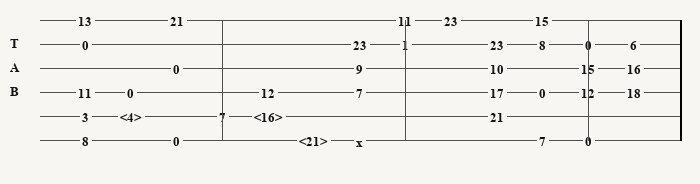0: (82, 38, 93, 51), (127, 86, 138, 99), (173, 62, 184, 75), (173, 134, 184, 147), (539, 86, 550, 99), (585, 38, 596, 51), (585, 134, 596, 147)
1: (402, 38, 413, 51)
10: (490, 62, 508, 75)
11: (78, 86, 96, 99), (398, 14, 416, 27)
12: (261, 86, 279, 99), (581, 86, 599, 99)
13: (78, 14, 96, 27)
15: (535, 14, 553, 27), (581, 62, 599, 75)
16: (627, 62, 645, 75)
17: (490, 86, 508, 99)
18: (627, 86, 645, 99)
21: (170, 14, 188, 27), (490, 110, 508, 123)
23: (353, 38, 371, 51), (444, 14, 462, 27), (490, 38, 508, 51)
3: (82, 110, 93, 123)
6: (630, 38, 641, 51)
7: (219, 110, 230, 123), (356, 86, 367, 99), (539, 134, 550, 147)
8: (82, 134, 93, 147), (539, 38, 550, 51)
9: (356, 62, 367, 75)
harmonic: (254, 110, 287, 123), (299, 134, 332, 147), (120, 110, 146, 123)
x: (356, 135, 367, 145)
